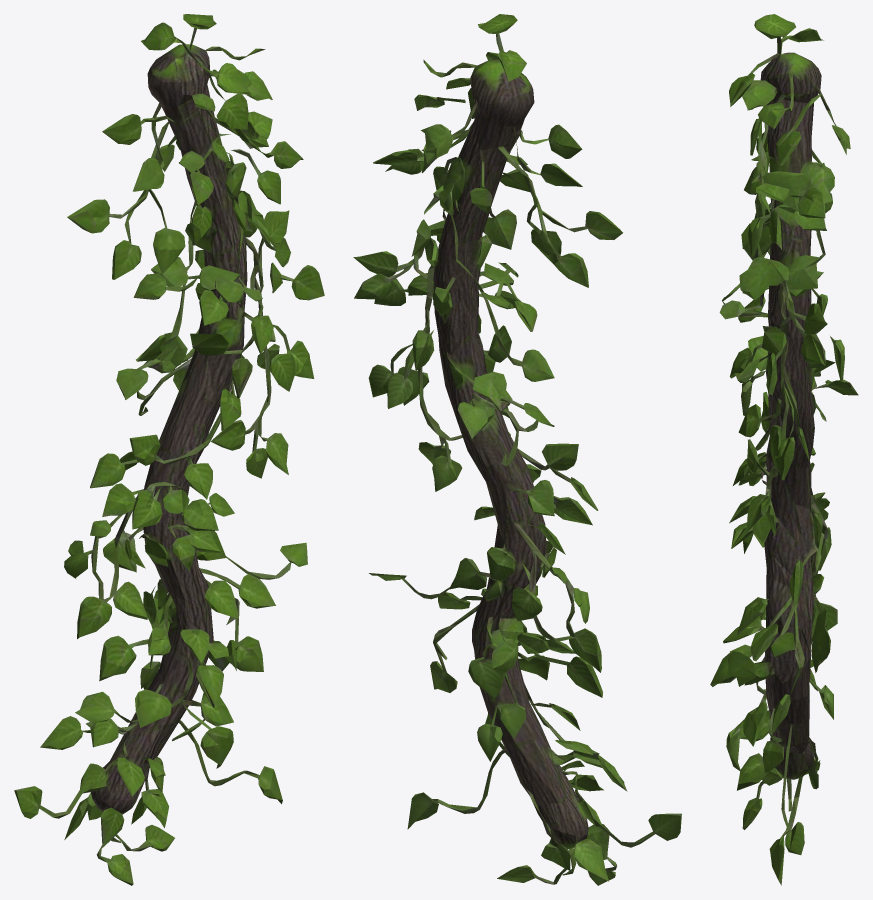
Rendered from vine.glb.
3 renders of one model, left to right at view 1: azimuth 30°, elevation 25°; view 2: azimuth 150°, elevation 25°; view 3: azimuth 270°, elevation 25°, orthographic. The views are drawn at different scales.
Size of the model in its own units: 0.7249 by 1.91 by 0.3028.
Materials: 1 (1 with a texture image).
